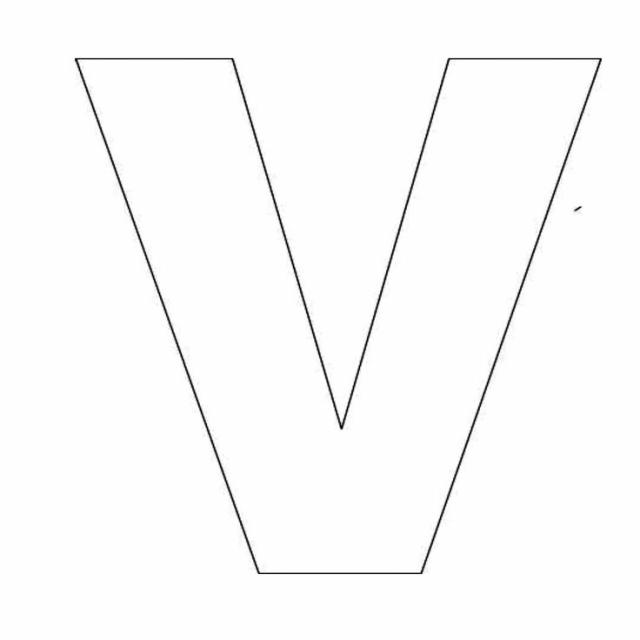V: (36, 25, 617, 605)
